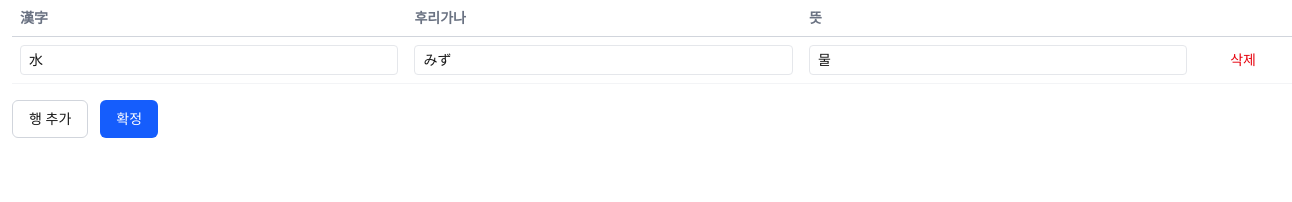
Scenario: ReviewEditor › 행 추가를 누르면 빈 행이 늘어난다
Expected: the number of fields with placeholder "후리가나" is 1, [414,45,793,75]
Click the button "행 추가": (50, 119) [12,100,88,138]
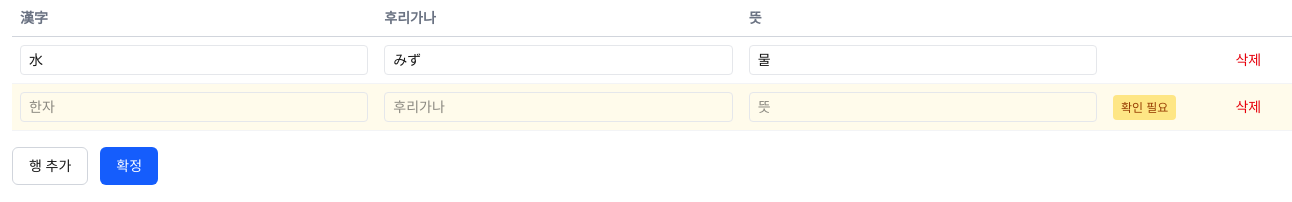
Expected: the number of fields with placeholder "후리가나" is 2, [384,45,733,75]; [384,92,733,122]
